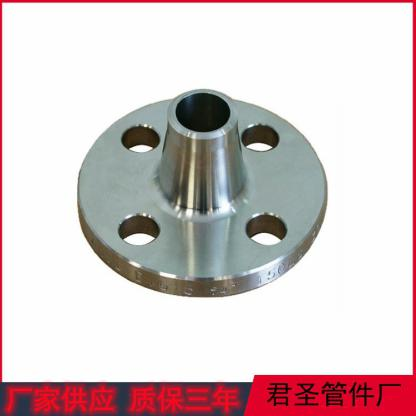FOD: (74, 86, 331, 301)
